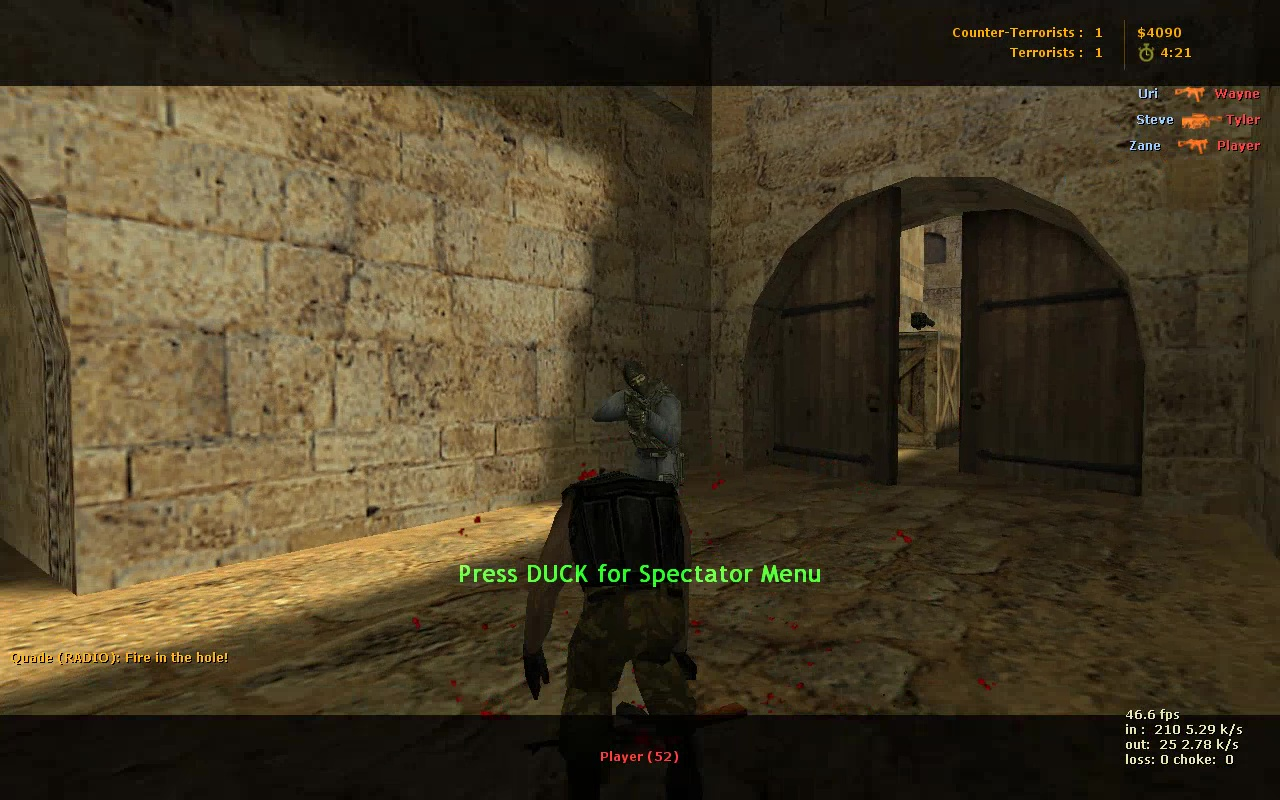ct: (593, 363, 690, 504)
terr1: (521, 472, 709, 792)
